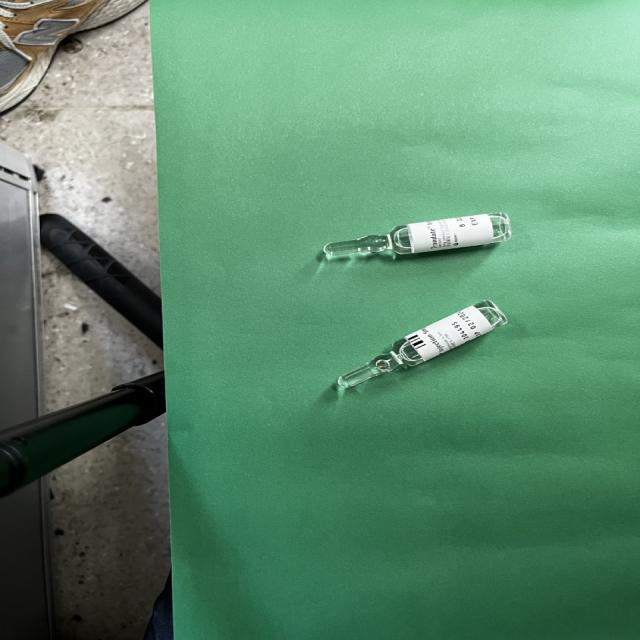Ampoules: (337, 300, 507, 390), (323, 213, 511, 260)
